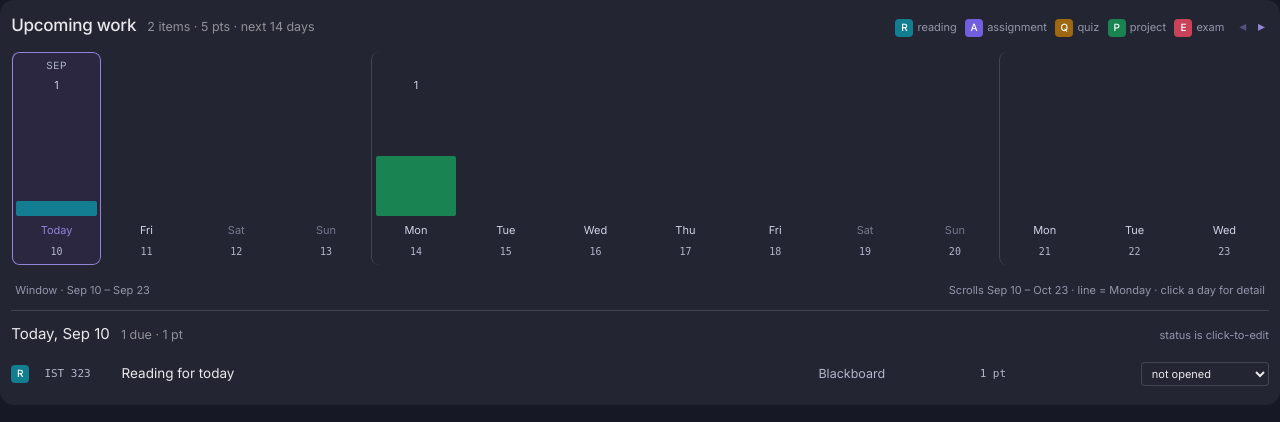
Scenario: UpcomingTracker — click to detail › fills the panel with the clicked day and no other
Click the tab "1 Mon 14" at (415, 159), box [370,52,460,266]
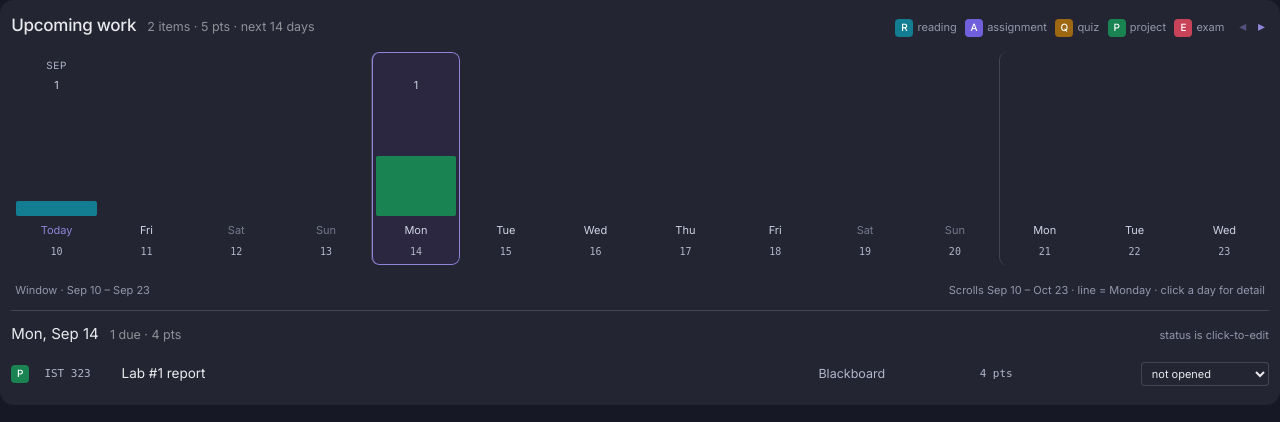
Check: the text "Mon, Sep 14" is shown, box [11,322,99,345]
Check: the link "Lab #1 report" is shown, box [122,363,206,384]
Check: the link "Reading for today" is gone
